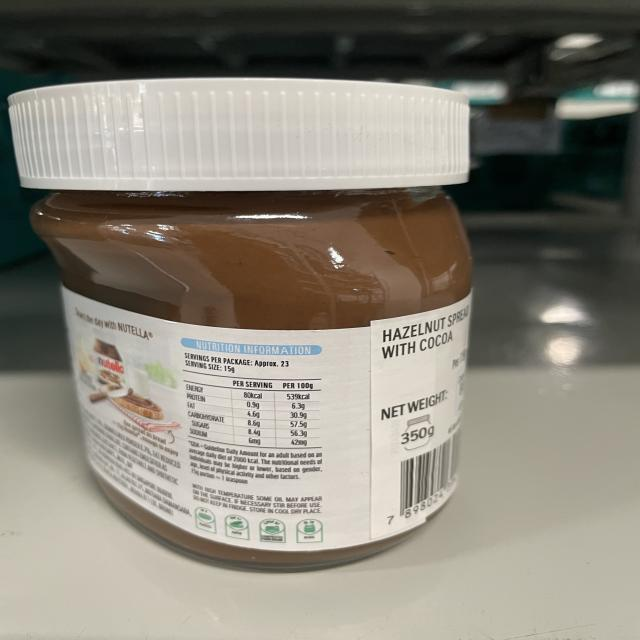object_name: (7, 88, 473, 578)
